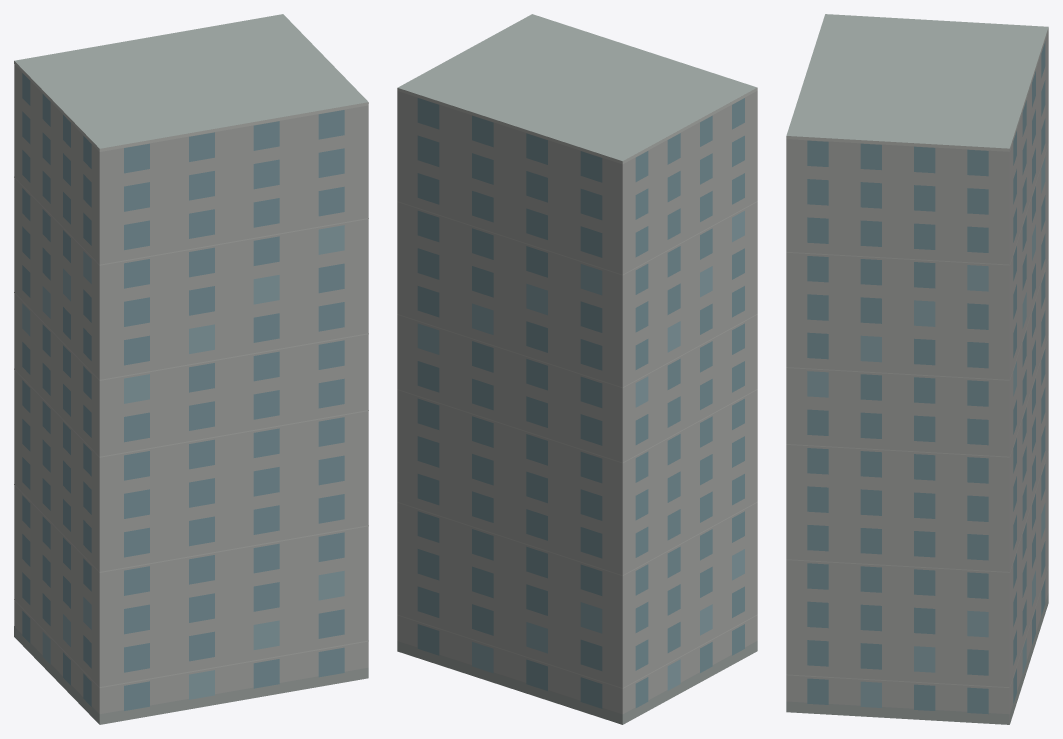
File: residential-45c00e25-0bb7-4f95-bb23-5d0d9dcdef53.glb
3 views of the same model, side by side, from view 1: azimuth 30°, elevation 25°; view 2: azimuth 150°, elevation 25°; view 3: azimuth 270°, elevation 25° (orthographic). The views are drawn at different scales.
Parts seen in each view (by area): view 1: residential-45c00e25-0bb7-4f95-bb23-5d0d9dcdef53.tmp; view 2: residential-45c00e25-0bb7-4f95-bb23-5d0d9dcdef53.tmp; view 3: residential-45c00e25-0bb7-4f95-bb23-5d0d9dcdef53.tmp.
Part boxes in pixels (bbox=[...]): residential-45c00e25-0bb7-4f95-bb23-5d0d9dcdef53.tmp: bbox=[14, 14, 368, 724]; residential-45c00e25-0bb7-4f95-bb23-5d0d9dcdef53.tmp: bbox=[397, 14, 757, 724]; residential-45c00e25-0bb7-4f95-bb23-5d0d9dcdef53.tmp: bbox=[786, 14, 1048, 724].
Size of the model in its own units: 21.56 by 43 by 17.76.
